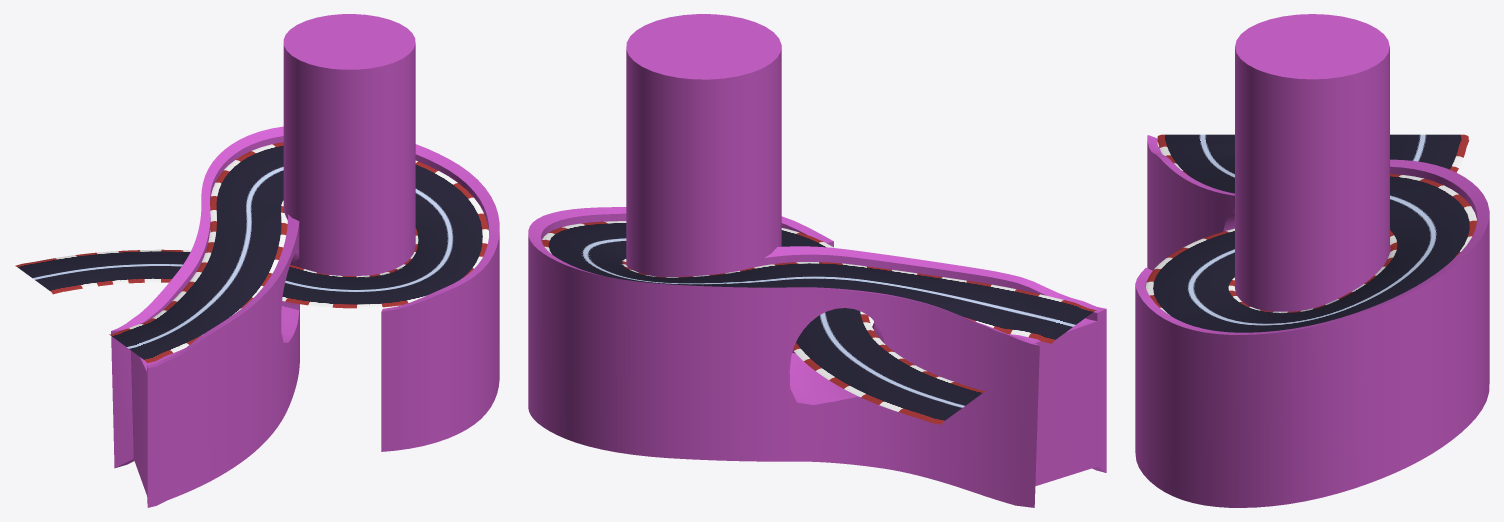
3 views of the same model, side by side, from view 1: azimuth 30°, elevation 25°; view 2: azimuth 150°, elevation 25°; view 3: azimuth 270°, elevation 25° (orthographic). The views are drawn at different scales.
Visible parts, largest first — view 1: regular 2 complemento, torre 2, regular 2 pista; view 2: regular 2 complemento, torre 2, regular 2 pista; view 3: regular 2 complemento, torre 2, regular 2 pista.
Boxes of the visible parts, x1,y1,x2,y2 form: regular 2 complemento: (111, 126, 499, 507); torre 2: (283, 14, 415, 275); regular 2 pista: (15, 142, 488, 363); regular 2 complemento: (528, 207, 1106, 507); torre 2: (626, 14, 781, 276); regular 2 pista: (541, 221, 1096, 424); regular 2 complemento: (1135, 135, 1489, 507); torre 2: (1235, 14, 1389, 311); regular 2 pista: (1146, 134, 1477, 332).
Bounding box in the file's own units: 247 × 203 × 160.
Materials: 2 (1 with a texture image).
